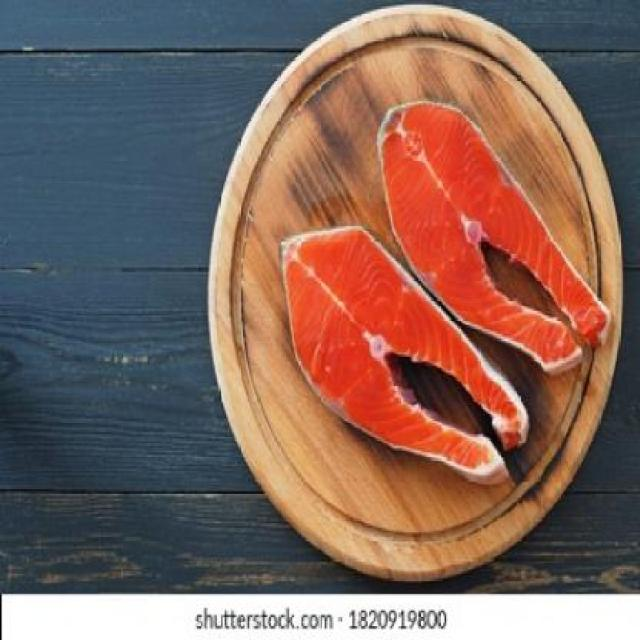salmon: (356, 84, 622, 390), (272, 217, 548, 507)
